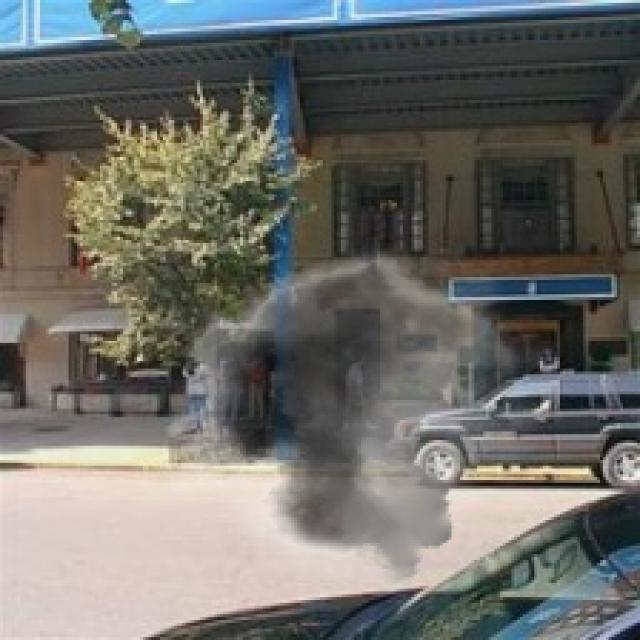smoke: (143, 231, 566, 583)
